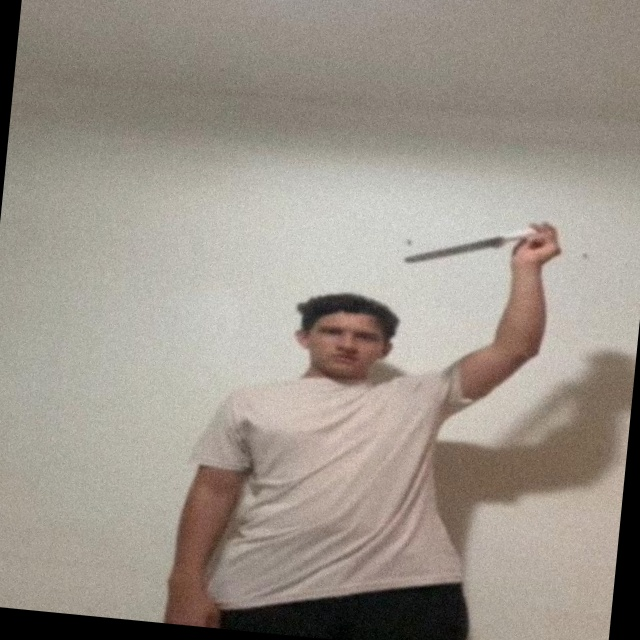Sharp-Object: (405, 230, 501, 269)
